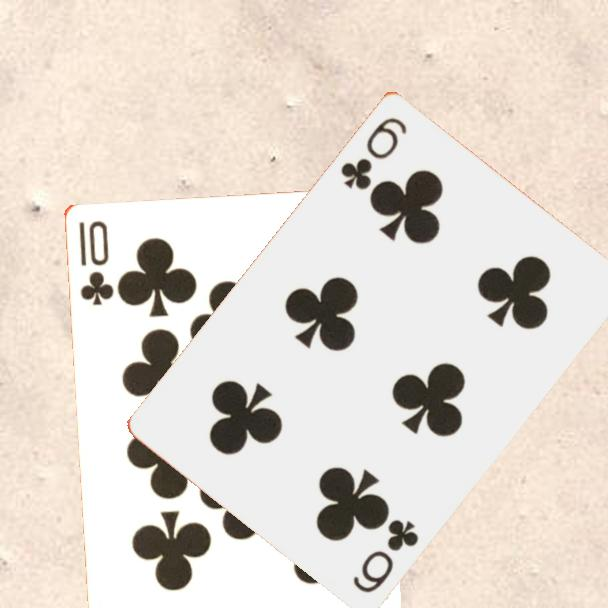c06: (349, 515, 422, 596), (336, 113, 410, 192)
c10: (75, 216, 115, 308)
